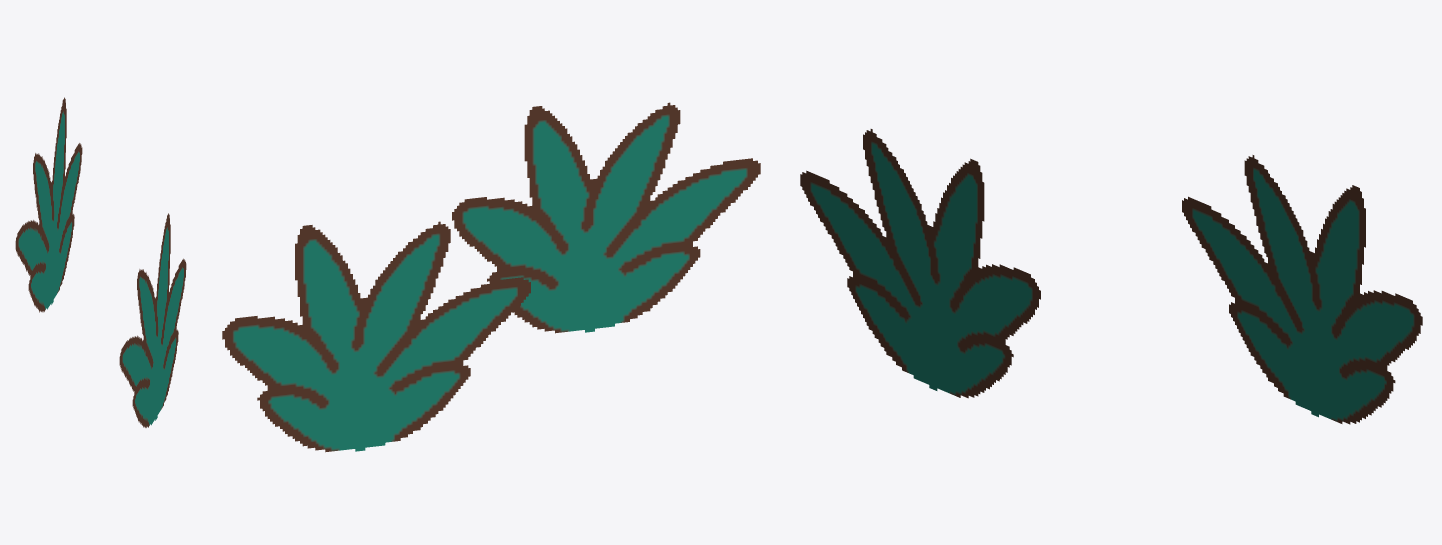
Rendered from grass-tuft1.gltf.
3 renders of one model, left to right at view 1: azimuth 30°, elevation 25°; view 2: azimuth 150°, elevation 25°; view 3: azimuth 270°, elevation 25°, orthographic. The views are drawn at different scales.
Visible parts, largest first — view 1: Grass Tuft1; view 2: Grass Tuft1; view 3: Grass Tuft1.
Part boxes in pixels (left/top/right/bottom): Grass Tuft1: left=15, top=97, right=186, bottom=427; Grass Tuft1: left=222, top=102, right=760, bottom=452; Grass Tuft1: left=800, top=129, right=1422, bottom=424.
Size of the model in its own units: 1.06 by 1.44 by 2.14.
Materials: 1 (1 with a texture image).
